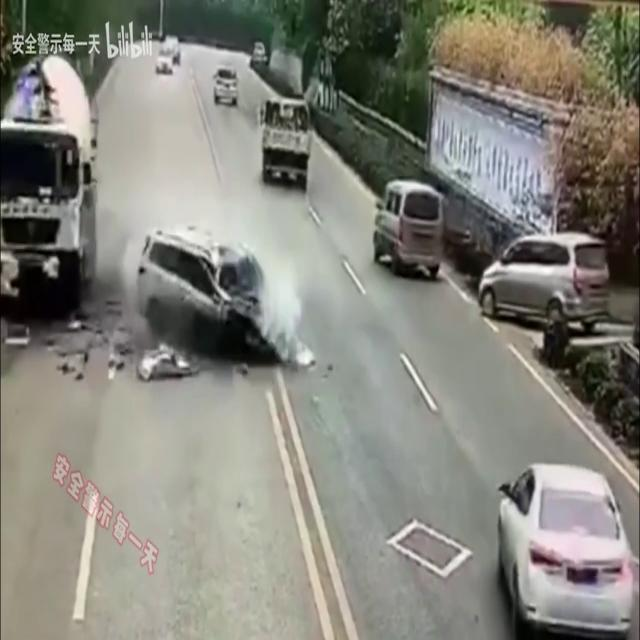accident: (0, 52, 94, 318), (133, 224, 299, 360)
